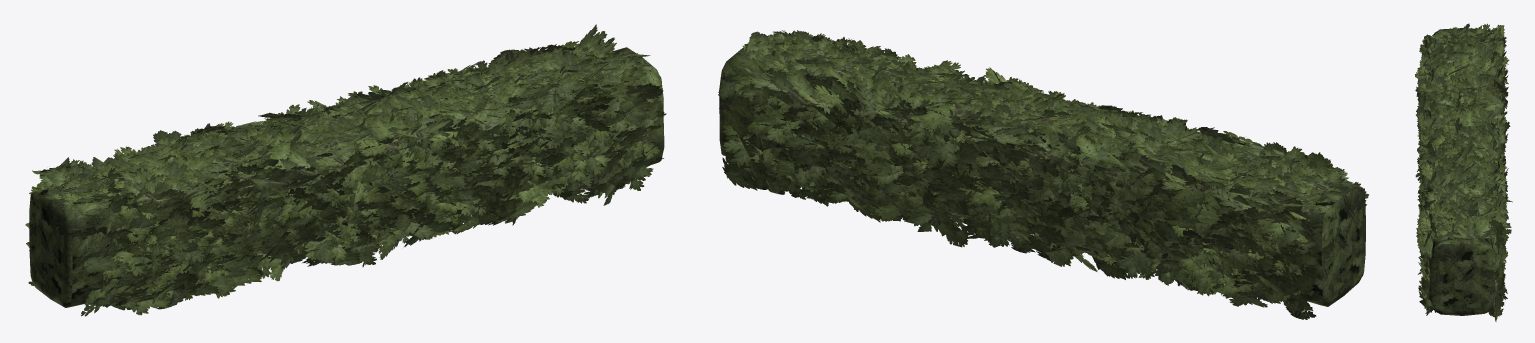
File: seto_bajo_jardin.glb
3 views of the same model, side by side, from view 1: azimuth 30°, elevation 25°; view 2: azimuth 150°, elevation 25°; view 3: azimuth 270°, elevation 25° (orthographic). The views are drawn at different scales.
Parts seen in each view (by area): view 1: seto_bajo_jardin; view 2: seto_bajo_jardin; view 3: seto_bajo_jardin.
Boxes of the visible parts, bbox=[...] form: seto_bajo_jardin: bbox=[25, 24, 666, 316]; seto_bajo_jardin: bbox=[718, 30, 1368, 319]; seto_bajo_jardin: bbox=[1415, 23, 1512, 321].
Size of the model in its own units: 2 by 0.5001 by 0.45.
Materials: 2 (2 with a texture image).
